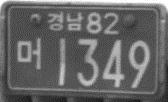1: (51, 38, 71, 85)
2: (104, 11, 119, 34)
3: (77, 38, 99, 87)
4: (102, 38, 125, 87)
8: (86, 11, 102, 33)
9: (128, 39, 151, 88)
경남_O: (47, 10, 84, 30)
머: (17, 36, 42, 70)
